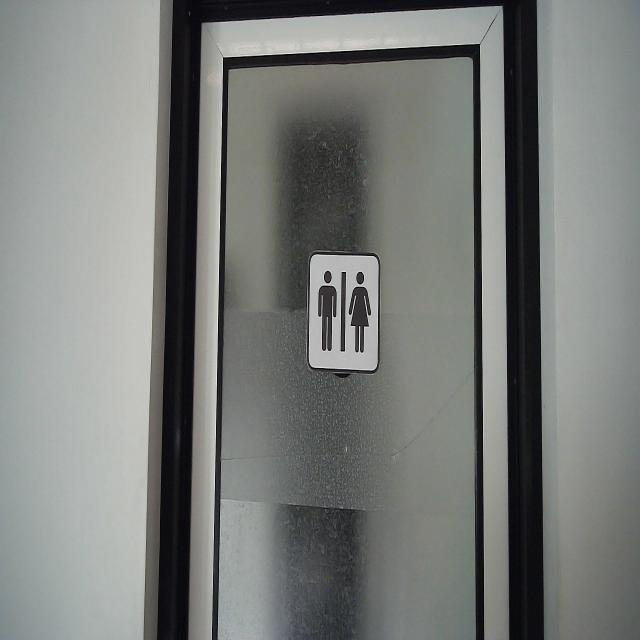restroom: (306, 248, 382, 376)
